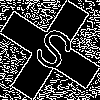S: (25, 25, 78, 82)
